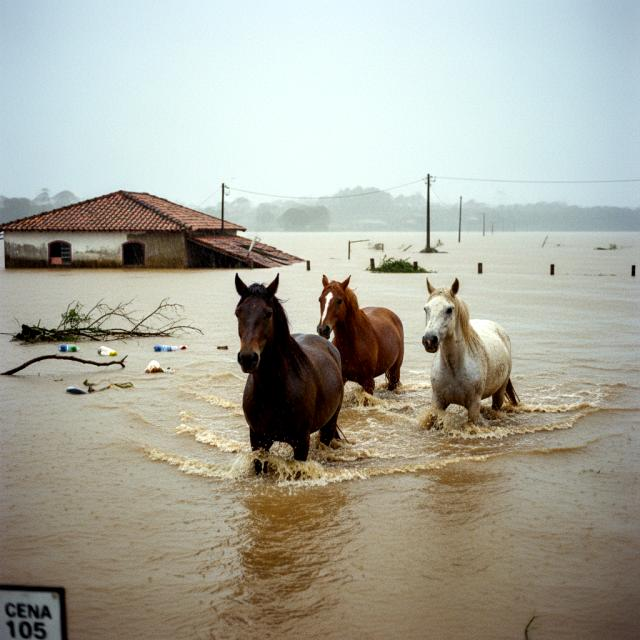horse: (225, 258, 354, 473), (414, 272, 524, 427), (314, 272, 412, 406)
